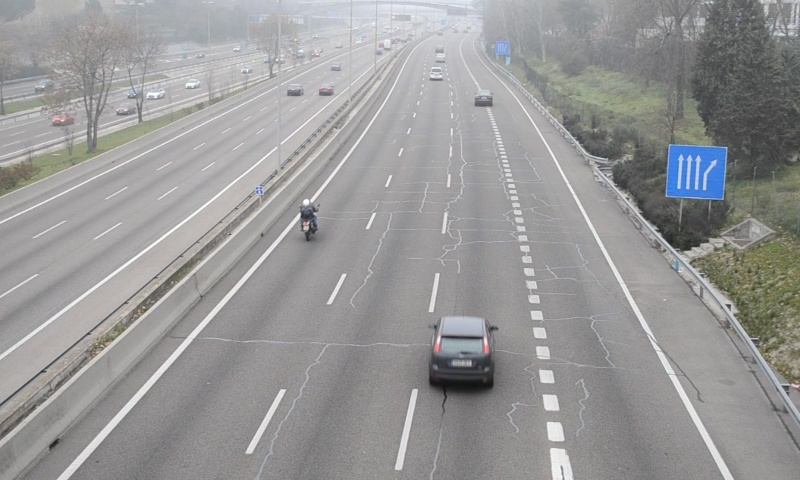car: (427, 316, 495, 388), (474, 90, 492, 106), (429, 67, 443, 81)
motorcycle: (298, 198, 318, 241)
